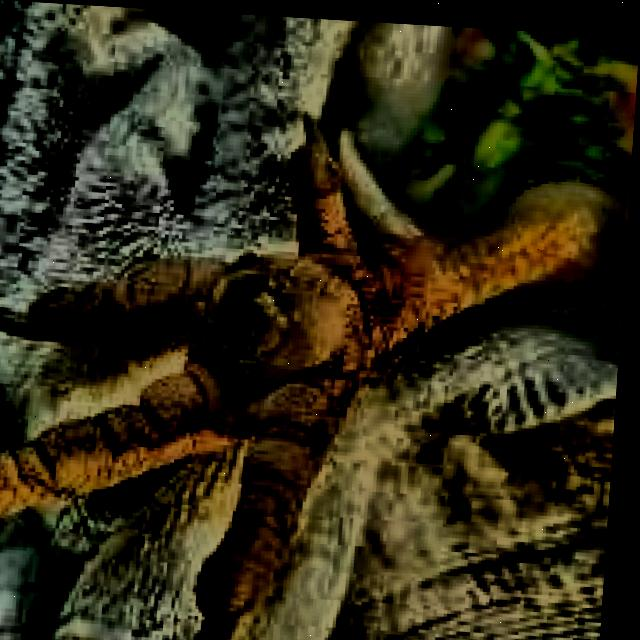Bumble foot: (134, 186, 387, 436)
